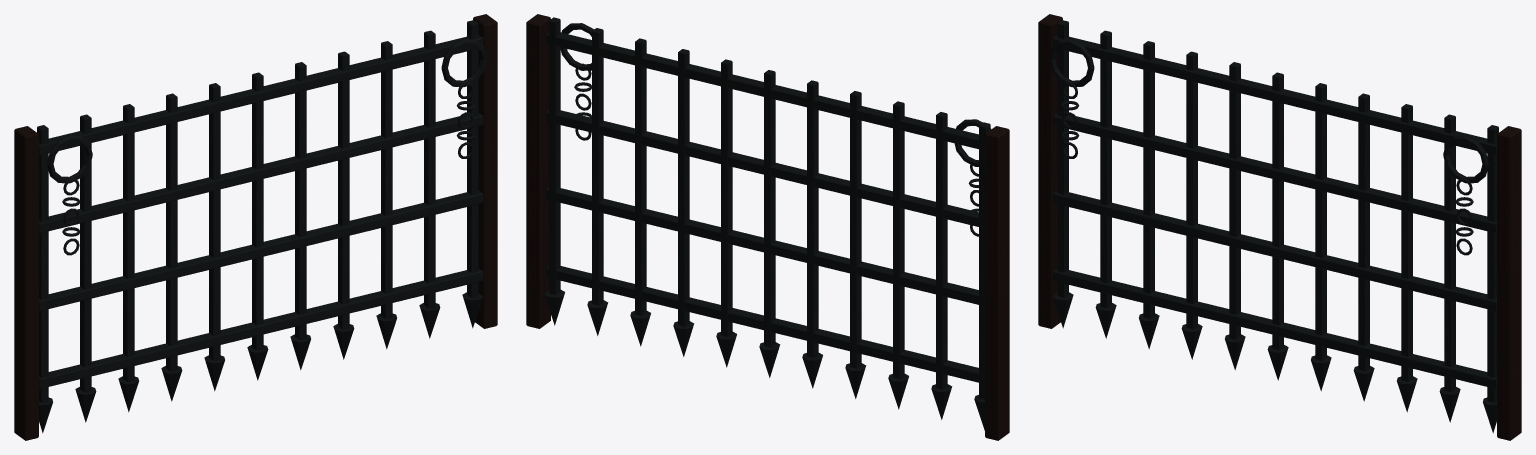
The model's file is raised_portcullis.glb.
The picture shows the model from 3 angles, left to right: view 1: azimuth 30°, elevation 25°; view 2: azimuth 150°, elevation 25°; view 3: azimuth 330°, elevation 25°; orthographic projection.
Visible parts, largest first — view 1: GuideRunner0, CrossRail0, CrossRail1, CrossRail2, CrossRail3, GuideRunner1, VerticalBar3, VerticalBar5, VerticalBar7, VerticalBar9, VerticalBar4, VerticalBar6 (+7 smaller); view 2: GuideRunner0, GuideRunner1, CrossRail2, CrossRail3, CrossRail0, CrossRail1, VerticalBar2, VerticalBar4, VerticalBar6, VerticalBar10, VerticalBar8, VerticalBar1 (+6 smaller); view 3: GuideRunner1, CrossRail0, CrossRail1, CrossRail2, CrossRail3, GuideRunner0, VerticalBar3, VerticalBar5, VerticalBar7, VerticalBar1, VerticalBar2, VerticalBar4 (+7 smaller).
Part boxes in pixels (bbox=[...]): GuideRunner0: bbox=[14, 126, 38, 440]; CrossRail0: bbox=[39, 268, 483, 388]; CrossRail1: bbox=[39, 191, 483, 311]; CrossRail2: bbox=[39, 113, 483, 233]; CrossRail3: bbox=[39, 35, 483, 155]; GuideRunner1: bbox=[473, 14, 497, 328]; VerticalBar3: bbox=[166, 93, 177, 371]; VerticalBar5: bbox=[252, 72, 263, 350]; VerticalBar7: bbox=[338, 51, 349, 329]; VerticalBar9: bbox=[424, 30, 435, 308]; VerticalBar4: bbox=[209, 83, 220, 360]; VerticalBar6: bbox=[295, 62, 306, 339]; GuideRunner0: bbox=[985, 126, 1009, 440]; GuideRunner1: bbox=[526, 14, 550, 328]; CrossRail2: bbox=[546, 110, 979, 226]; CrossRail3: bbox=[546, 32, 979, 149]; CrossRail0: bbox=[546, 266, 979, 382]; CrossRail1: bbox=[546, 188, 979, 304]; VerticalBar2: bbox=[893, 101, 904, 379]; VerticalBar4: bbox=[807, 80, 818, 358]; VerticalBar6: bbox=[721, 59, 732, 337]; VerticalBar10: bbox=[549, 17, 560, 295]; VerticalBar8: bbox=[635, 38, 646, 316]; VerticalBar1: bbox=[936, 112, 947, 389]; GuideRunner1: bbox=[1497, 126, 1521, 440]; CrossRail0: bbox=[1052, 268, 1496, 388]; CrossRail1: bbox=[1052, 191, 1496, 311]; CrossRail2: bbox=[1052, 113, 1496, 233]; CrossRail3: bbox=[1052, 35, 1496, 155]; GuideRunner0: bbox=[1038, 14, 1062, 328]; VerticalBar3: bbox=[1186, 51, 1197, 329]; VerticalBar5: bbox=[1272, 72, 1283, 350]; VerticalBar7: bbox=[1358, 93, 1369, 371]; VerticalBar1: bbox=[1100, 30, 1111, 308]; VerticalBar2: bbox=[1143, 41, 1154, 318]; VerticalBar4: bbox=[1229, 62, 1240, 339].
Bounding box in the file's own units: 5.28 × 3.27 × 0.445.
Materials: 2 (2 with a texture image).
